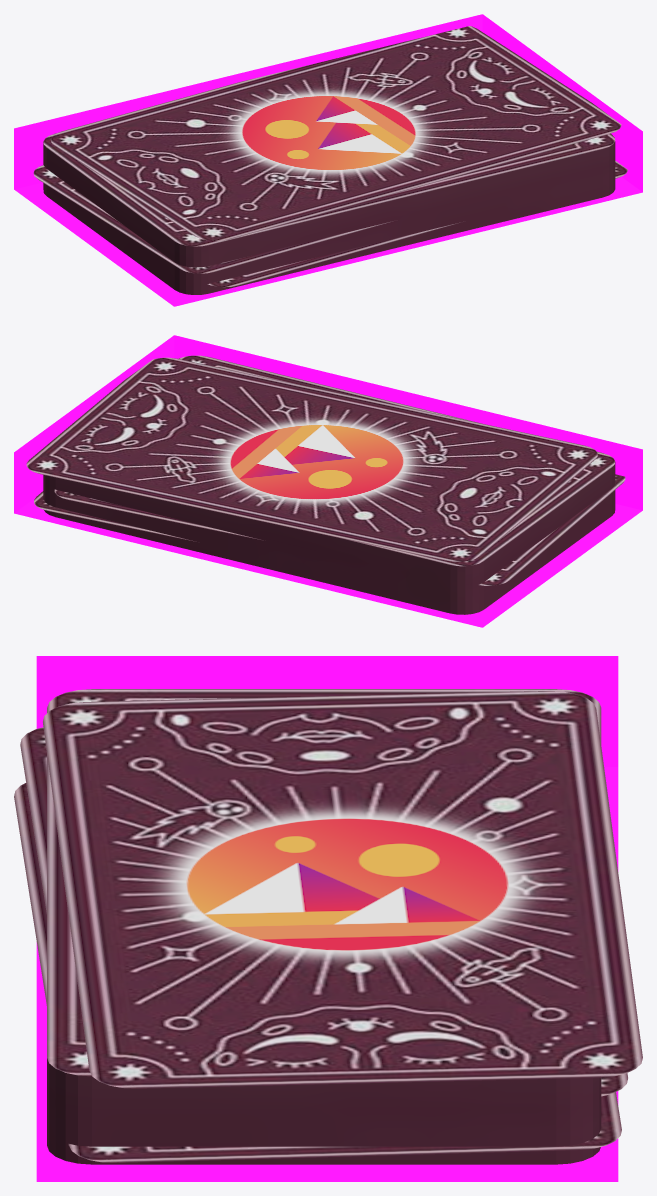
File: card_deck.glb
3 renders of one model, top to bottom at view 1: azimuth 30°, elevation 25°; view 2: azimuth 150°, elevation 25°; view 3: azimuth 270°, elevation 25°, orthographic. The views are drawn at different scales.
Parts seen in each view (by area): view 1: CardDeck, emision; view 2: CardDeck, emision; view 3: CardDeck, emision.
Part boxes in pixels (x1,y1,x2,y2): CardDeck: (33,26,627,294); emision: (14,14,642,306); CardDeck: (26,355,625,614); emision: (14,335,642,627); CardDeck: (14,689,642,1164); emision: (36,656,618,1181).
Size of what is drawn, in the model's own units: 2.16 by 0.2665 by 1.37.
2 materials, 1 textured.
